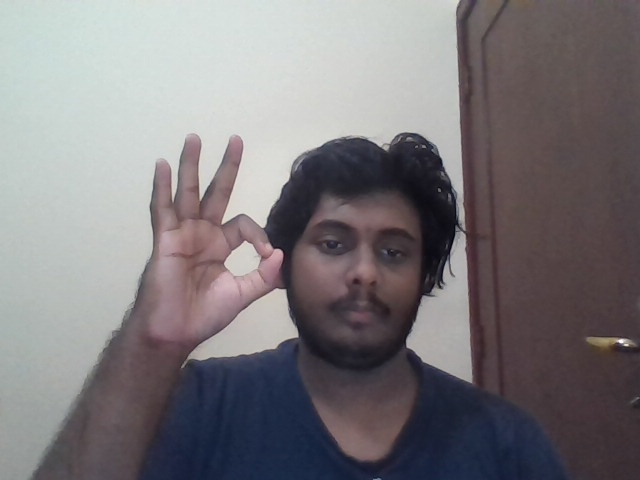ok: (133, 134, 283, 346)
